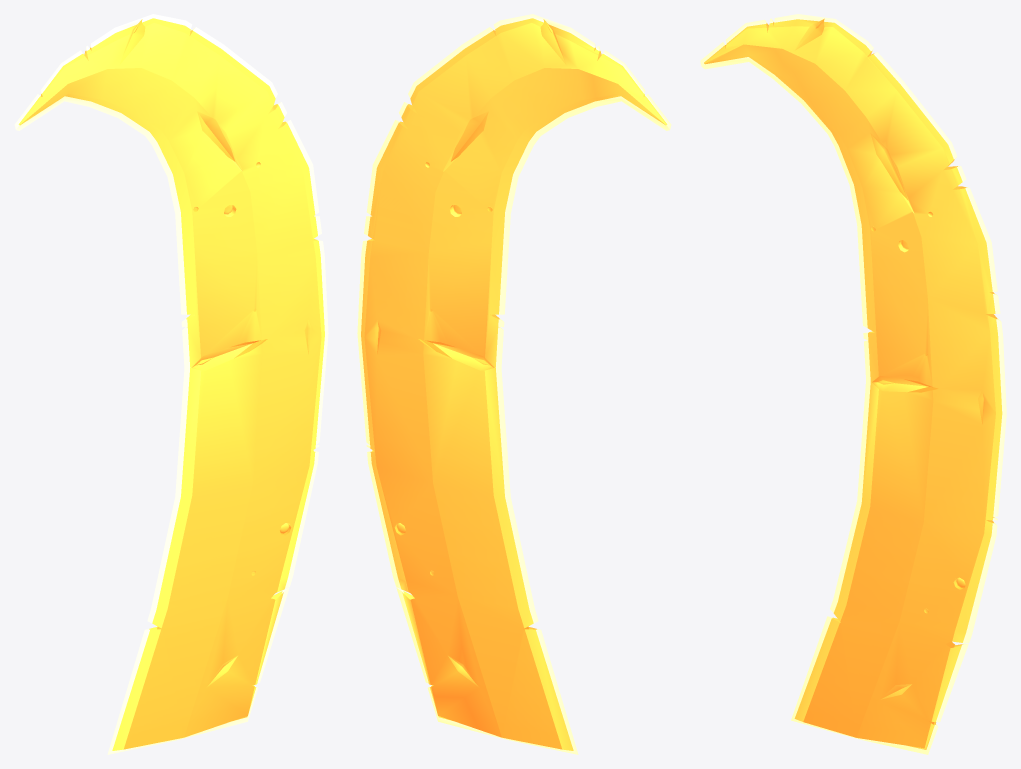
Rendered from gold_blade_bubbles_045.glb.
3 renders of one model, left to right at view 1: azimuth 30°, elevation 25°; view 2: azimuth 150°, elevation 25°; view 3: azimuth 330°, elevation 25°, orthographic. The views are drawn at different scales.
Parts seen in each view (by area): view 1: gold_blade_bubbles.045; view 2: gold_blade_bubbles.045; view 3: gold_blade_bubbles.045.
Part boxes in pixels (left/top/right/bottom): gold_blade_bubbles.045: left=14, top=14, right=328, bottom=754; gold_blade_bubbles.045: left=357, top=14, right=671, bottom=754; gold_blade_bubbles.045: left=700, top=14, right=1006, bottom=754.
Size of the model in its own units: 4.65 by 10.35 by 0.241.
1 material, 1 textured.
